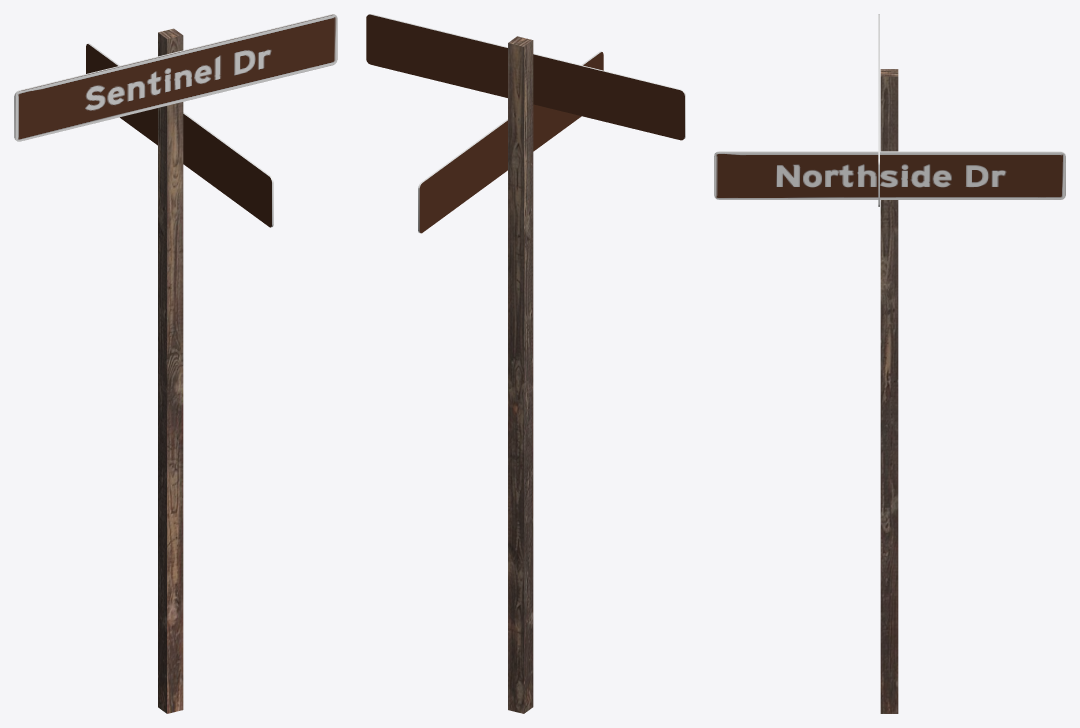
Rendered from YOS_Sign_06.fbx.
The picture shows the model from 3 angles, left to right: view 1: azimuth 30°, elevation 25°; view 2: azimuth 150°, elevation 25°; view 3: azimuth 270°, elevation 25°; orthographic projection. The views are drawn at different scales.
Parts seen in each view (by area): view 1: Village_Dr, WoodPost_2, Northside_Dr; view 2: WoodPost_2, Village_Dr, Northside_Dr; view 3: Northside_Dr, WoodPost_2.
Part boxes in pixels (x1=…): Village_Dr: x1=14, y1=14, x2=337, y2=141; WoodPost_2: x1=158, y1=28, x2=183, y2=713; Northside_Dr: x1=86, y1=43, x2=273, y2=227; WoodPost_2: x1=508, y1=36, x2=533, y2=713; Village_Dr: x1=366, y1=14, x2=685, y2=140; Northside_Dr: x1=418, y1=51, x2=603, y2=233; Northside_Dr: x1=714, y1=151, x2=1065, y2=199; WoodPost_2: x1=880, y1=69, x2=898, y2=713.
Bounding box in the file's own units: 100 × 200 × 100.
